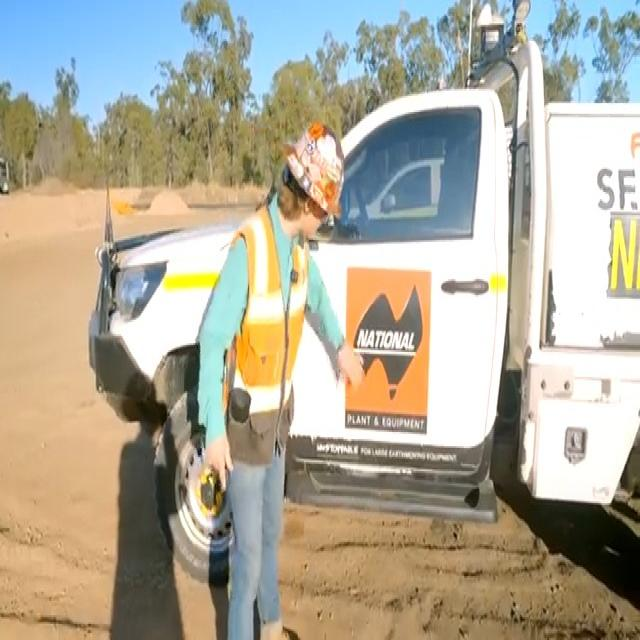light_vehicle: (115, 53, 640, 585)
